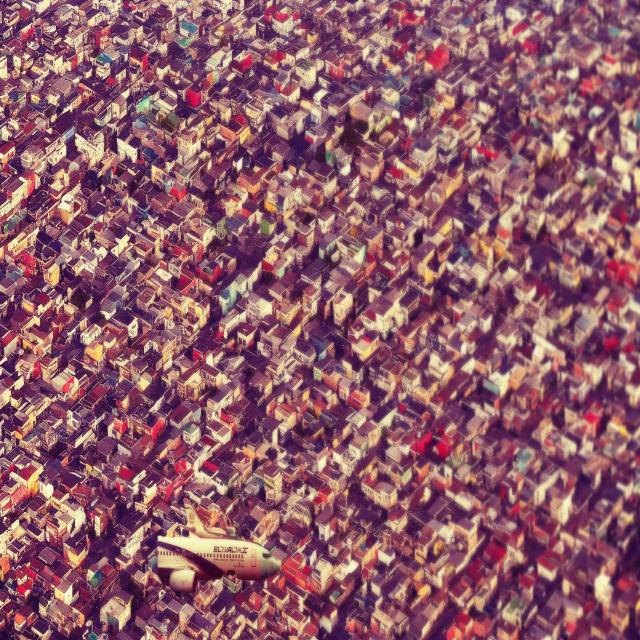airplane: (155, 499, 286, 592)
